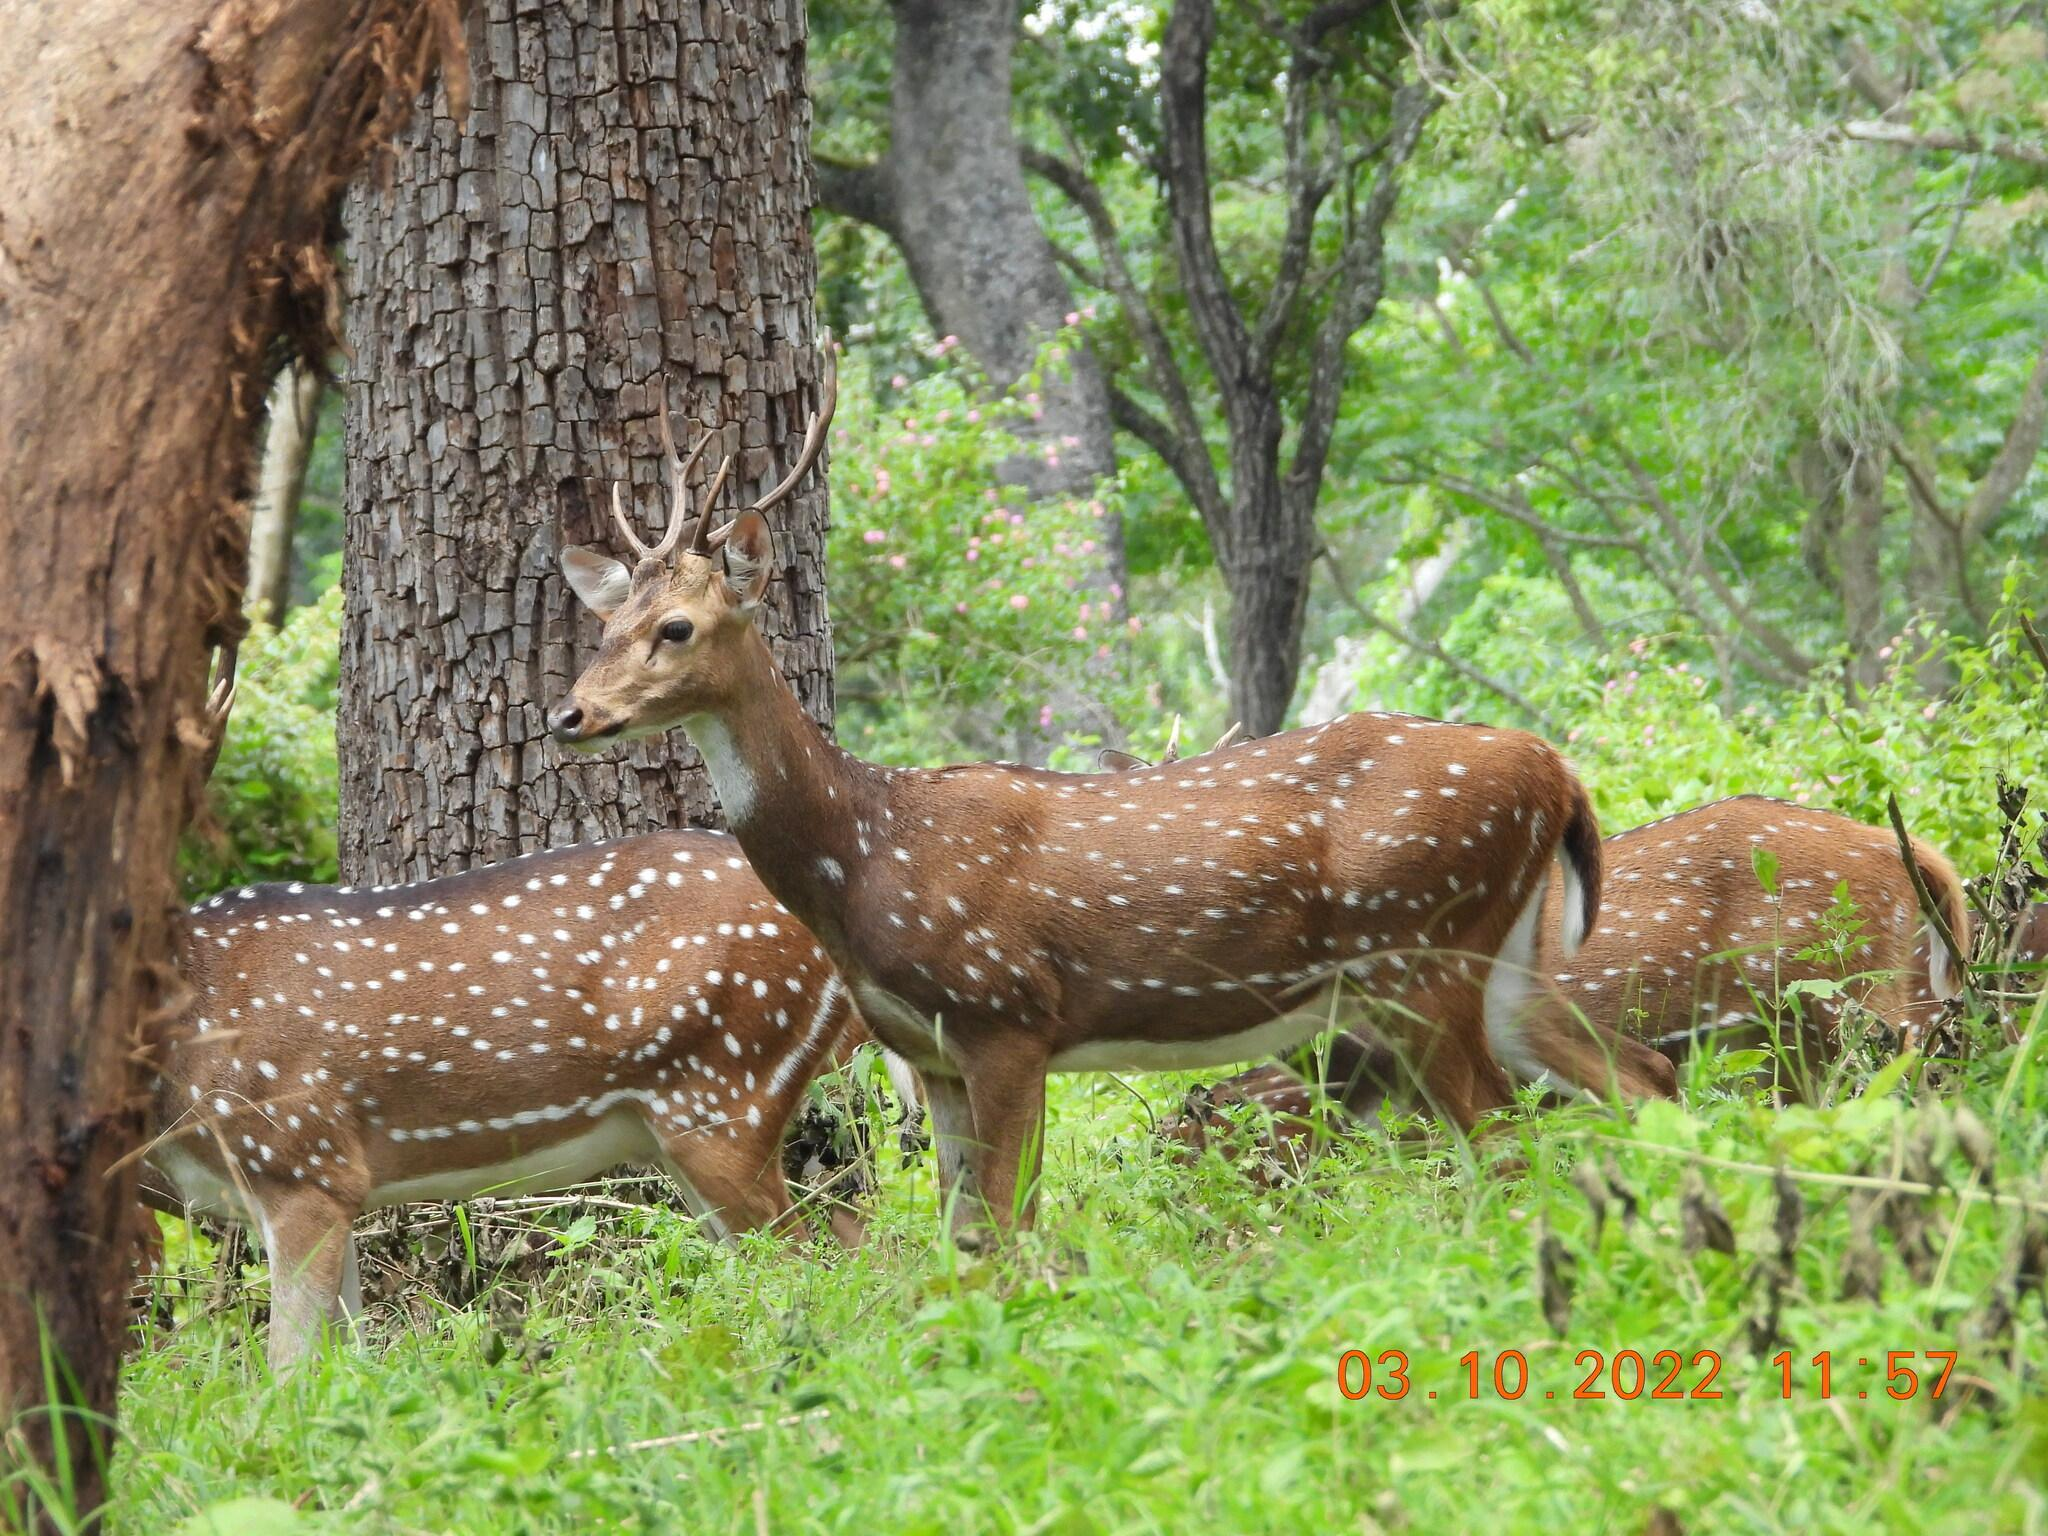Deer: (548, 324, 1679, 1244), (145, 831, 871, 1360)
